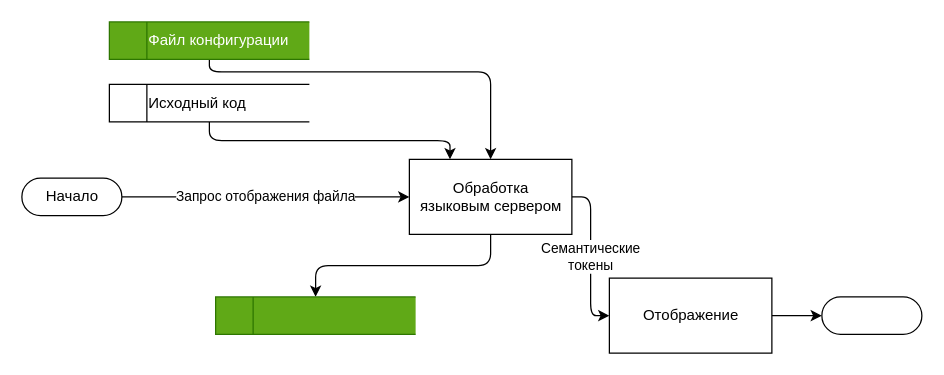
Some shapes in this 944 by 375 pixel diagram are drawn without their labels. The shapes that lost their labels are listed below. From the top down, each one's centre as x and y in pixels, then its label:
At [315,315]: "Состояние конфигурации".
At [871,315]: "Конец".
